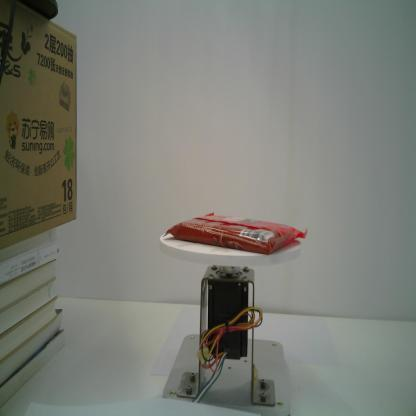Dessert: (163, 211, 309, 255)
